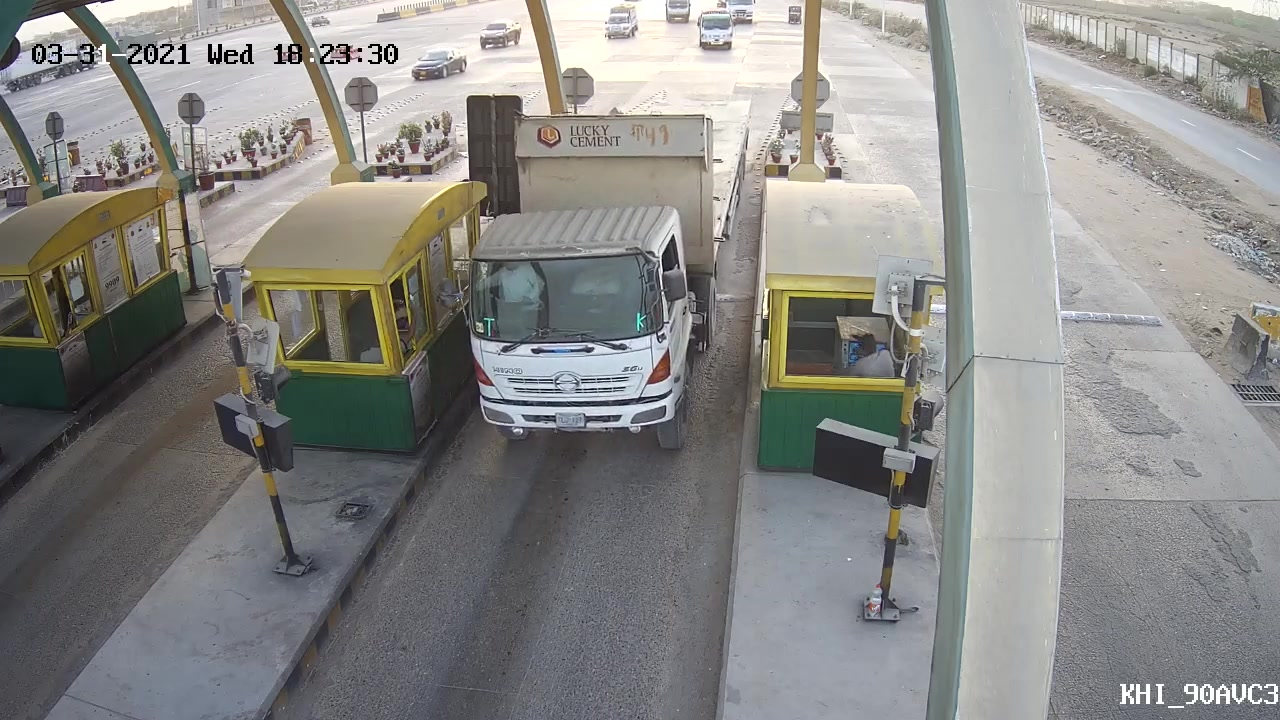F6: (441, 87, 738, 452)
